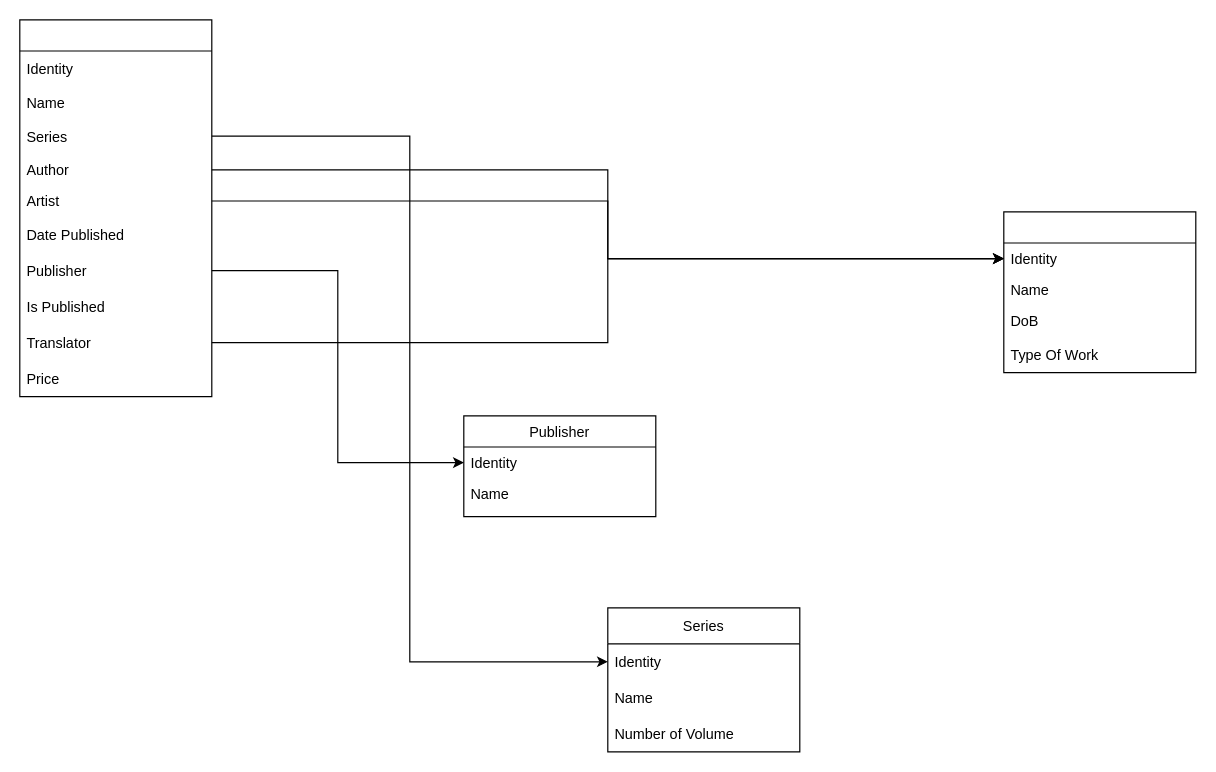
This 1216x772 diagram has some shape labels left out. Here are the shapes that lost their labels. From the top down, the box of each, then its label:
(19, 19, 212, 397): Book
(1003, 211, 1196, 373): Staff
